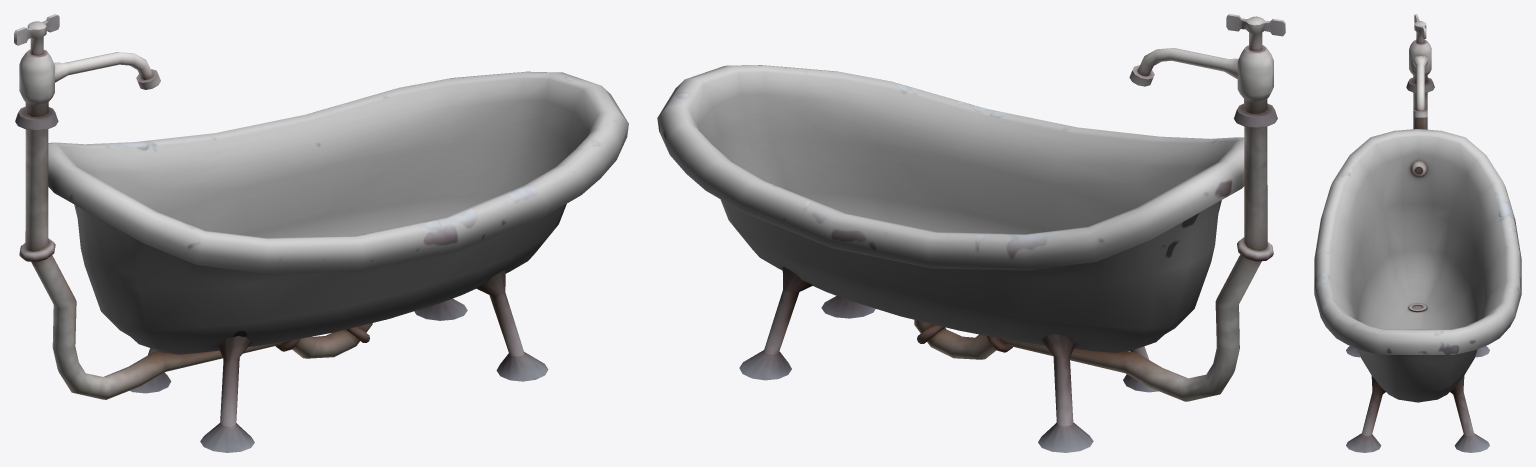
Rendered from BathTub01.FBX.
The picture shows the model from 3 angles, left to right: view 1: azimuth 30°, elevation 25°; view 2: azimuth 150°, elevation 25°; view 3: azimuth 270°, elevation 25°; orthographic projection. The views are drawn at different scales.
Visible parts, largest first — view 1: BathTub01; view 2: BathTub01; view 3: BathTub01.
Boxes of the visible parts, <box> form: BathTub01: <box>14,14,628,452</box>; BathTub01: <box>657,14,1285,452</box>; BathTub01: <box>1314,14,1521,452</box>.
Size of what is drawn, in the model's own units: 2.11 by 1.43 by 0.9598.
